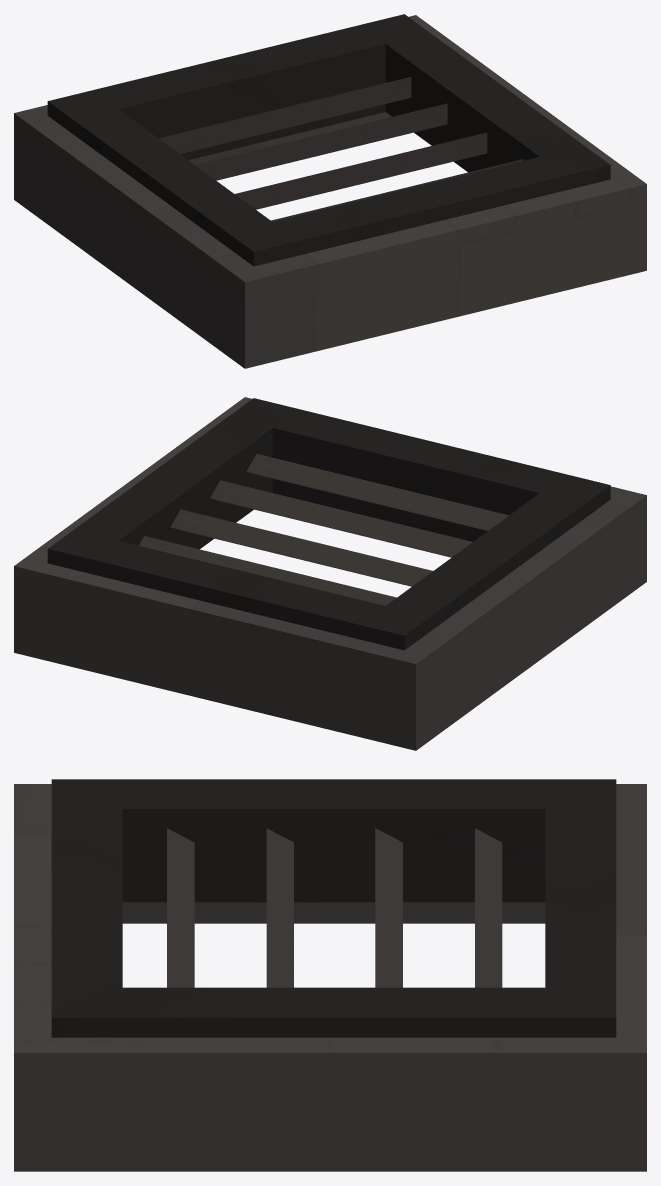
The model's file is gritpit.fbx.
The picture shows the model from 3 angles, top to bottom: view 1: azimuth 30°, elevation 25°; view 2: azimuth 150°, elevation 25°; view 3: azimuth 270°, elevation 25°; orthographic projection. The views are drawn at different scales.
Parts seen in each view (by area): view 1: gritpit; view 2: gritpit; view 3: gritpit.
Boxes of the visible parts, <box> form: gritpit: <box>14,14,646,368</box>; gritpit: <box>14,397,646,750</box>; gritpit: <box>14,779,646,1171</box>.
Bounding box in the file's own units: 114 × 27.57 × 114.
